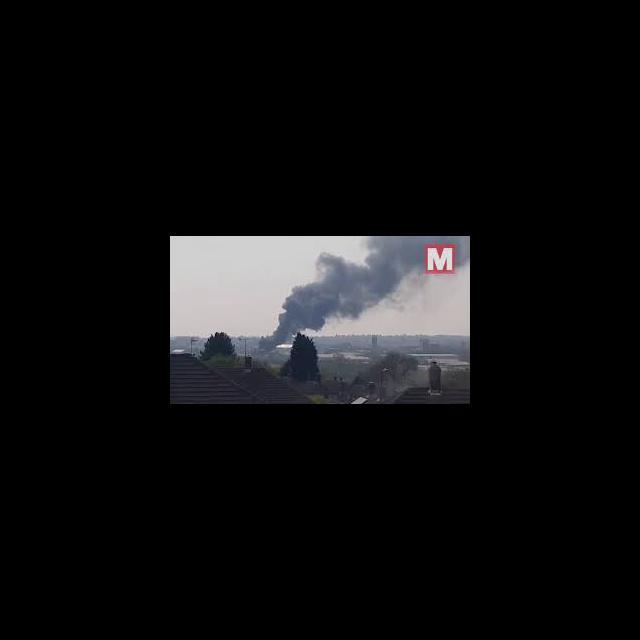Smoke: (244, 236, 419, 351)
